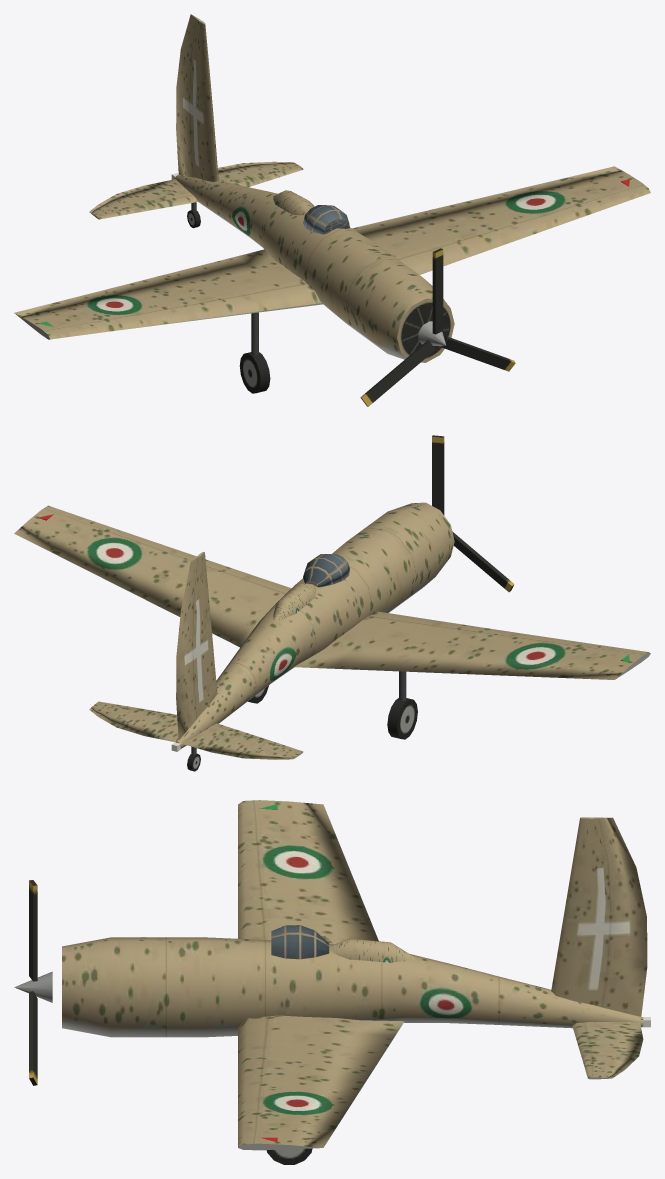
The model's file is fighter.glb.
3 renders of one model, top to bottom at view 1: azimuth 30°, elevation 25°; view 2: azimuth 150°, elevation 25°; view 3: azimuth 270°, elevation 25°, orthographic. The views are drawn at different scales.
Visible parts, largest first — view 1: fuselage, prop_pales, wheel_right; view 2: fuselage, prop_pales, wheel_right; view 3: fuselage, prop_pales, prop, wheel_left.
Boxes of the visible parts, bbox=[...] form: fuselage: bbox=[14, 14, 650, 362]; prop_pales: bbox=[360, 248, 515, 406]; wheel_right: bbox=[239, 352, 270, 393]; fuselage: bbox=[14, 502, 650, 759]; prop_pales: bbox=[432, 435, 514, 592]; wheel_right: bbox=[387, 698, 417, 739]; fuselage: bbox=[62, 800, 650, 1150]; prop_pales: bbox=[29, 880, 37, 1085]; prop: bbox=[14, 971, 52, 1002]; wheel_left: bbox=[266, 1148, 312, 1164].
Size of the model in its own units: 10.58 by 4.34 by 8.29.
5 materials, 5 textured.
